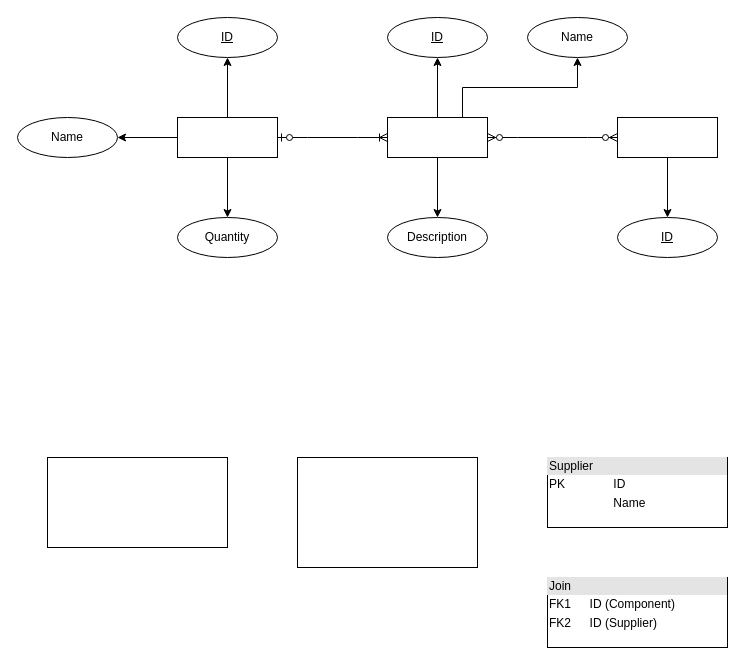
Some shapes in this 745 by 665 pixel diagram are drawn without their labels. Here are the shapes that lost their labels. From the top down, the box of each, then its label:
(176, 116, 278, 158): Product
(386, 116, 488, 158): Component
(616, 116, 718, 158): Supplier
(46, 456, 228, 548): Product PK ID Name Quantity
(296, 456, 478, 568): Component PK ID FK1 ID (Product) Name Description
